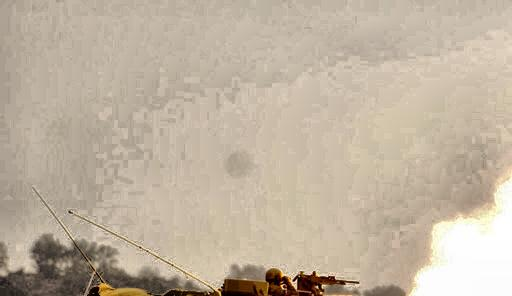tanks: (166, 283, 274, 296), (84, 287, 154, 296)
